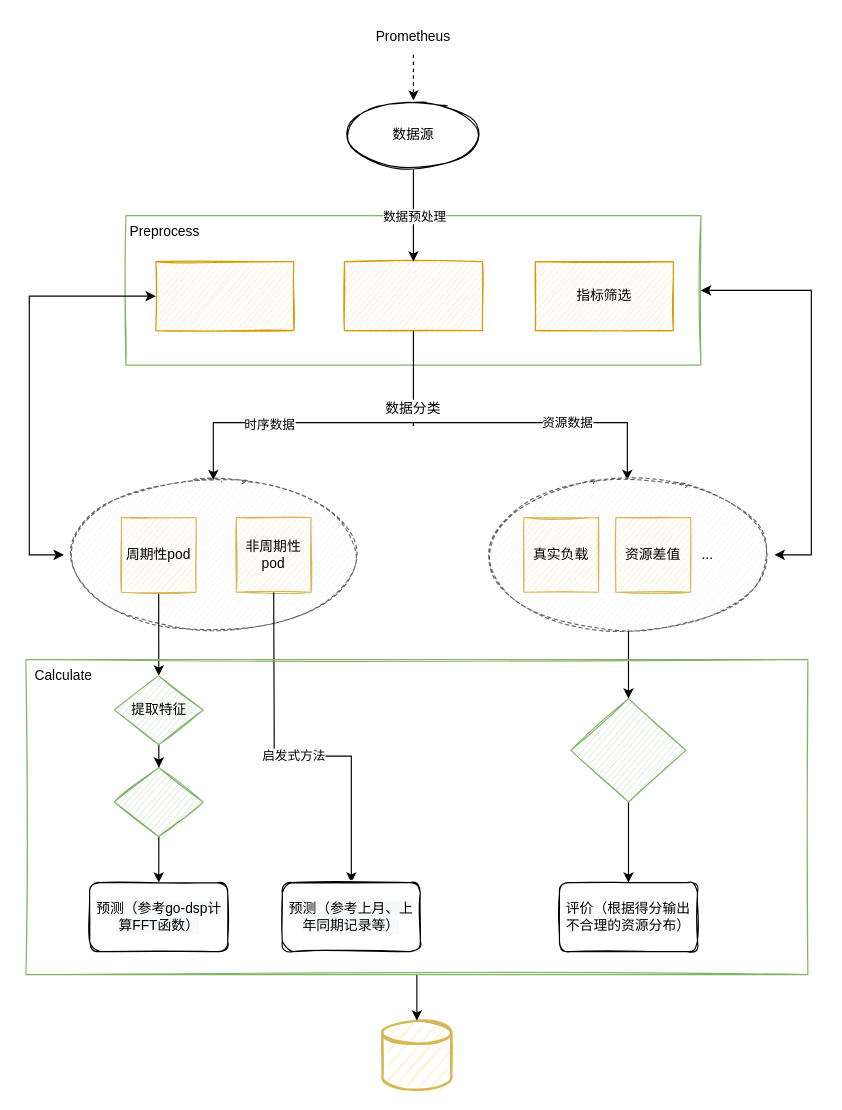
Some shapes in this 842 by 1110 pixel diagram are drawn without their labels. Each missing label, with the centre of its shape:
主周期判断: the point at 158,801
仿插件计算，但不执行调度: the point at 628,749
按pod分类: the point at 224,295
数据补全: the point at 412,295
输出结果: the point at 416,1054
